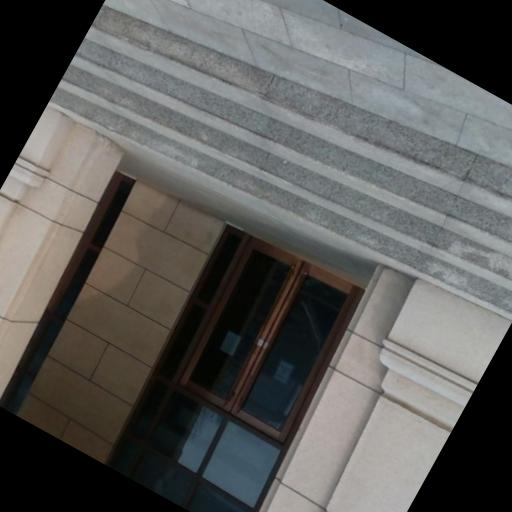stairs: (50, 6, 511, 317)
